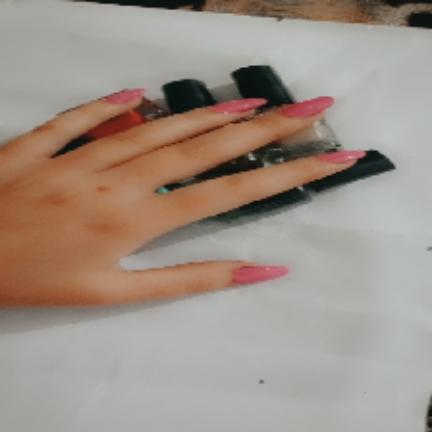Nail: (280, 96, 335, 117), (234, 266, 289, 284), (209, 98, 267, 114), (319, 150, 366, 164), (105, 89, 144, 104)
